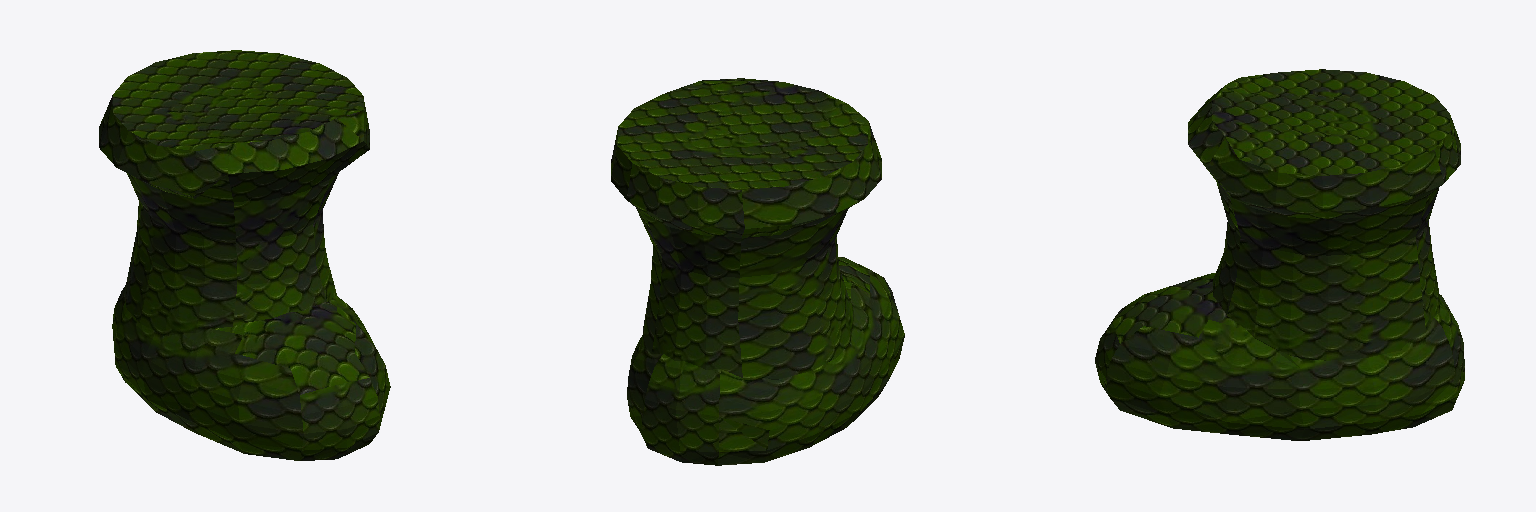
The picture shows the model from 3 angles: view 1: azimuth 30°, elevation 25°; view 2: azimuth 150°, elevation 25°; view 3: azimuth 270°, elevation 25°; orthographic projection.
Parts seen in each view (by area): view 1: bota; view 2: bota; view 3: bota.
Boxes of the visible parts, x1=… form: bota: x1=99, y1=50, x2=390, y2=460; bota: x1=611, y1=78, x2=904, y2=465; bota: x1=1095, y1=69, x2=1464, y2=440.
Size of the model in its own units: 1.08 by 1.27 by 1.47.
1 materials, 1 textured.